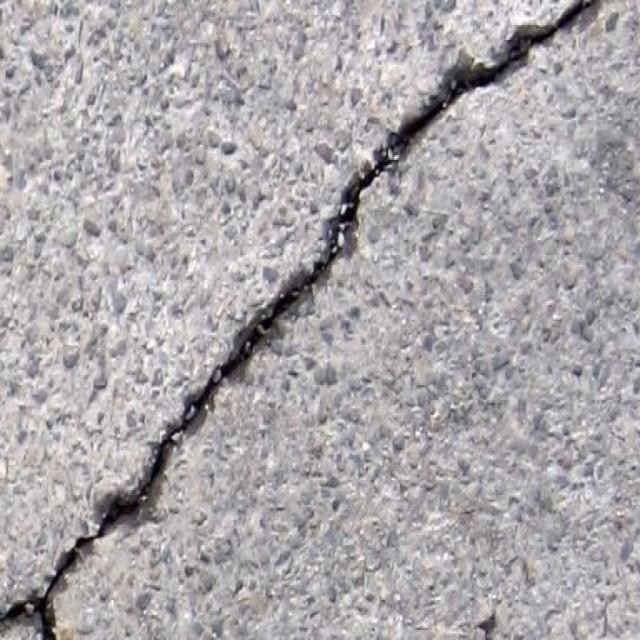crack: (72, 304, 272, 545), (271, 109, 426, 325), (426, 2, 607, 134), (1, 545, 102, 638)
